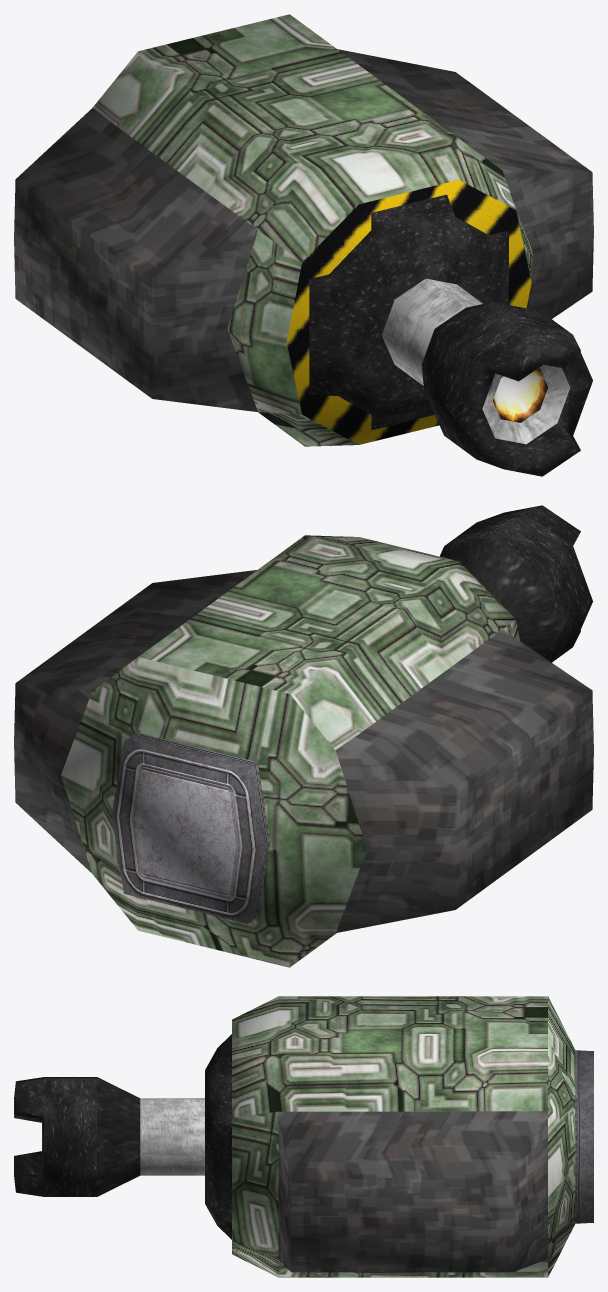
Rendered from gunFlakSmall.obj.
The picture shows the model from 3 angles, top to bottom: view 1: azimuth 30°, elevation 25°; view 2: azimuth 150°, elevation 25°; view 3: azimuth 270°, elevation 25°; orthographic projection. The views are drawn at different scales.
Parts seen in each view (by area): view 1: gunMortar_Cylinder.014; view 2: gunMortar_Cylinder.014; view 3: gunMortar_Cylinder.014.
Part boxes in pixels (<box>): gunMortar_Cylinder.014: <box>14,14,593,476</box>; gunMortar_Cylinder.014: <box>14,505,593,967</box>; gunMortar_Cylinder.014: <box>14,996,593,1277</box>.
Bounding box in the file's own units: 0.3015 × 0.1781 × 0.4222.
Materials: 1 (1 with a texture image).
